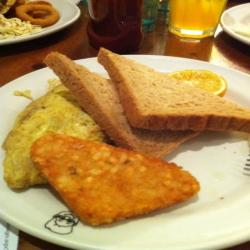bread: (45, 46, 250, 152)
omelette: (3, 77, 118, 194)
